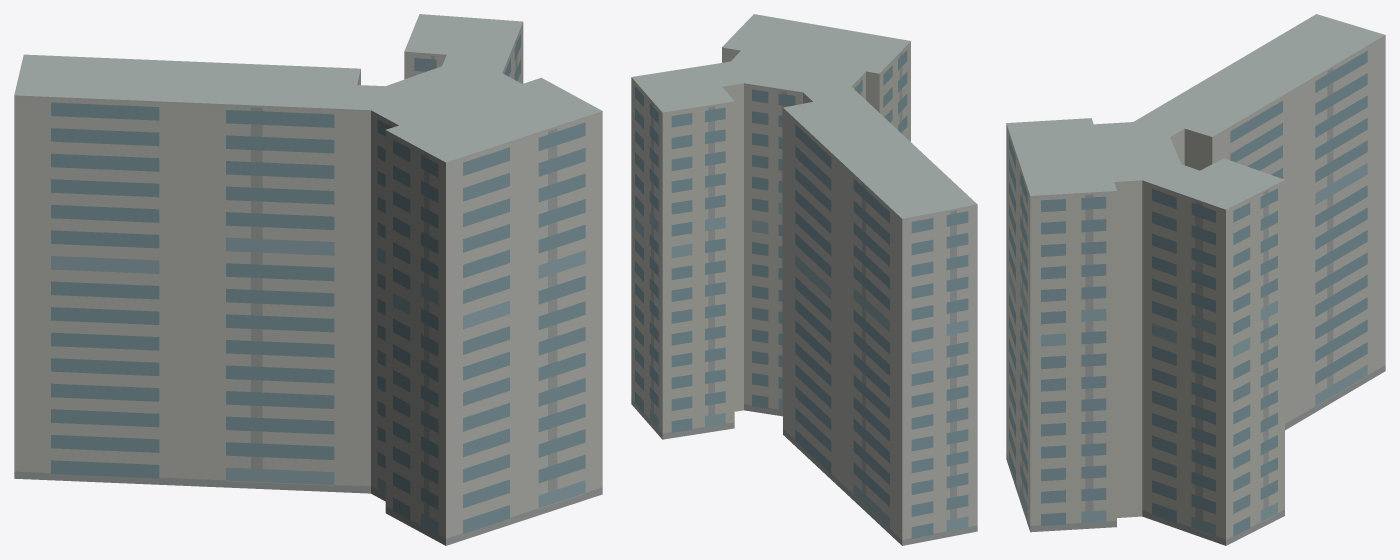
File: residential-96a47616-b88b-4b75-81ab-39d3e2ff67f2.glb
3 views of the same model, side by side, from view 1: azimuth 30°, elevation 25°; view 2: azimuth 150°, elevation 25°; view 3: azimuth 270°, elevation 25° (orthographic). The views are drawn at different scales.
Visible parts, largest first — view 1: residential-96a47616-b88b-4b75-81ab-39d3e2ff67f2.tmp; view 2: residential-96a47616-b88b-4b75-81ab-39d3e2ff67f2.tmp; view 3: residential-96a47616-b88b-4b75-81ab-39d3e2ff67f2.tmp.
Boxes of the visible parts, left/top/right/bottom form: residential-96a47616-b88b-4b75-81ab-39d3e2ff67f2.tmp: left=14, top=14, right=602, bottom=545; residential-96a47616-b88b-4b75-81ab-39d3e2ff67f2.tmp: left=631, top=14, right=977, bottom=545; residential-96a47616-b88b-4b75-81ab-39d3e2ff67f2.tmp: left=1006, top=14, right=1385, bottom=545.
Bounding box in the file's own units: 53.71 × 43 × 43.97.
